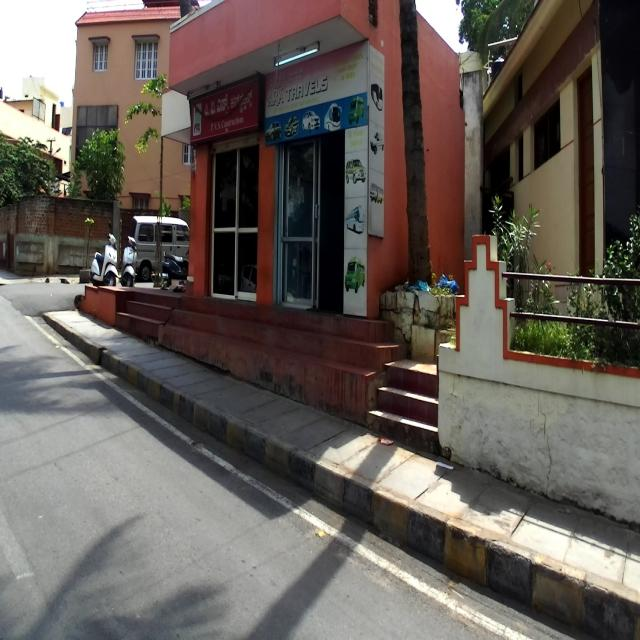Car_Maruti-Suzuki: (130, 214, 192, 281)
scooter: (90, 220, 118, 285), (121, 230, 137, 290)
